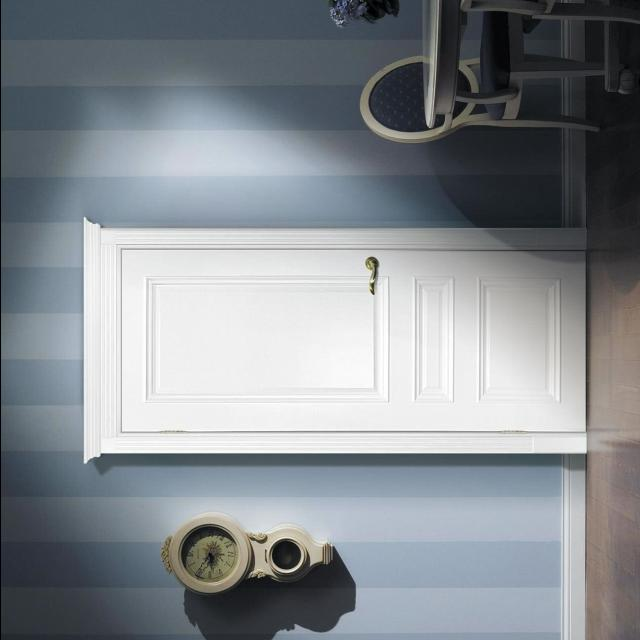close: (100, 226, 596, 445)
